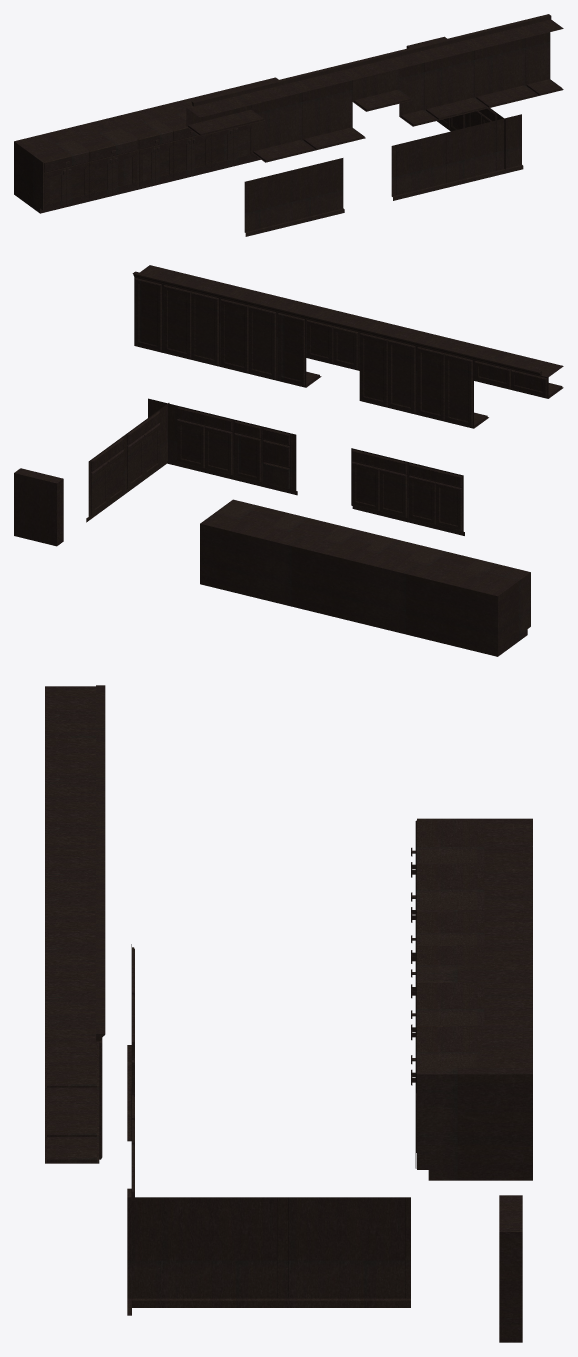
The model's file is 1860_kitchen_cabinets_espresso.gltf.
The picture shows the model from 3 angles, top to bottom: view 1: azimuth 30°, elevation 25°; view 2: azimuth 150°, elevation 25°; view 3: azimuth 270°, elevation 25°; orthographic projection. The views are drawn at different scales.
Visible parts, largest first — view 1: Kitchen Cabinets Epresso; view 2: Kitchen Cabinets Epresso; view 3: Kitchen Cabinets Epresso.
Boxes of the visible parts, x1=… form: Kitchen Cabinets Epresso: x1=14, y1=14, x2=563, y2=236; Kitchen Cabinets Epresso: x1=14, y1=265, x2=563, y2=656; Kitchen Cabinets Epresso: x1=45, y1=685, x2=532, y2=1342.
Size of the model in its own units: 8.5 by 2.93 by 4.2.
1 material, 1 textured.
